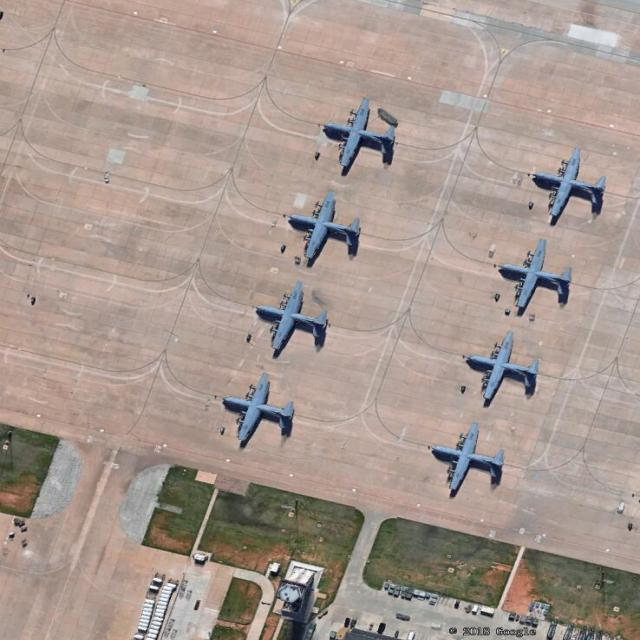fighter jet: (488, 239, 581, 317), (245, 285, 333, 359), (526, 149, 609, 226), (465, 328, 544, 407), (427, 424, 508, 496), (219, 373, 295, 447), (283, 200, 361, 270), (318, 105, 392, 174)
